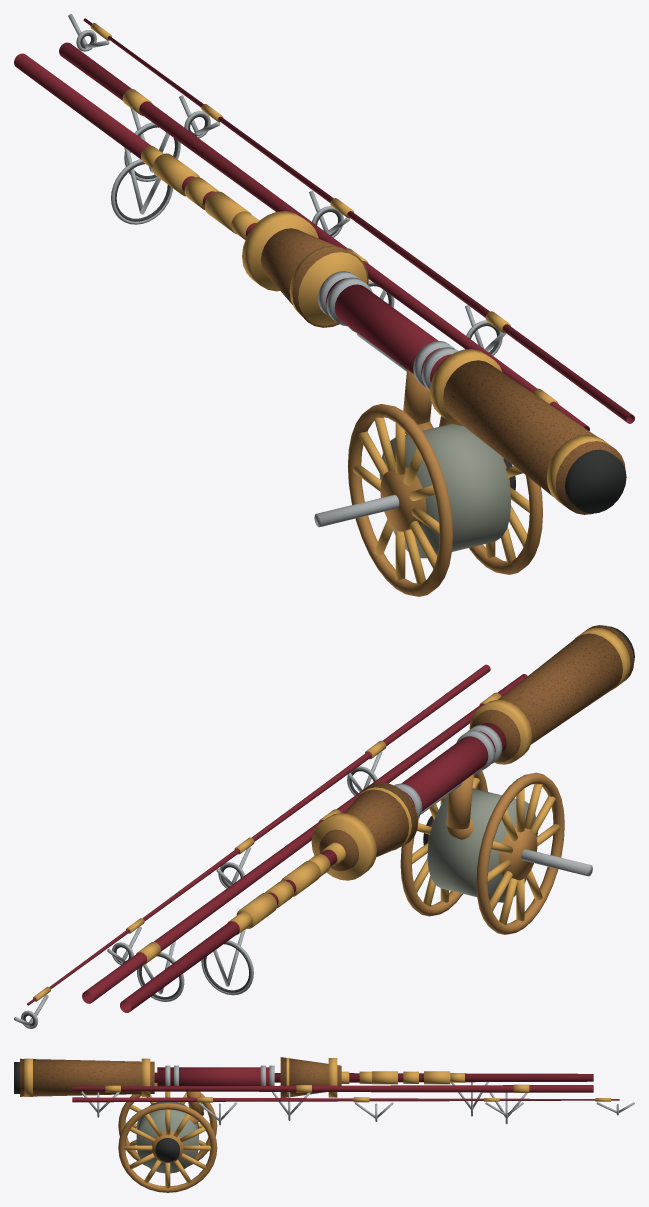
The model's file is heron_fly_folded.glb.
3 views of the same model, one above another, from view 1: azimuth 30°, elevation 25°; view 2: azimuth 150°, elevation 25°; view 3: azimuth 270°, elevation 25° (orthographic). The views are drawn at different scales.
Parts seen in each view (by area): view 1: Folded rod; view 2: Folded rod; view 3: Folded rod.
Boxes of the visible parts, left/top/right/bottom form: Folded rod: left=14, top=14, right=634, bottom=596; Folded rod: left=14, top=625, right=634, bottom=1028; Folded rod: left=14, top=1057, right=634, bottom=1192.
Size of the model in its own units: 0.1577 by 0.156 by 0.7147.
8 materials, 1 textured.
